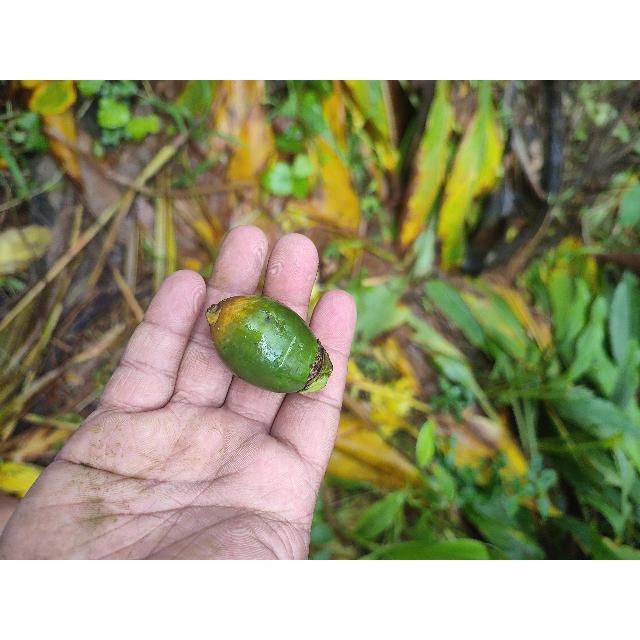damaged: (204, 296, 332, 395)
